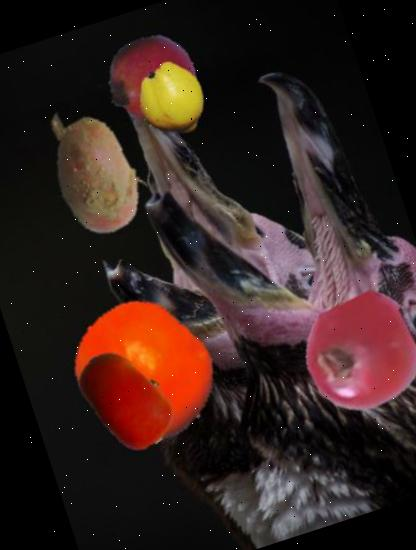Clementine: (54, 281, 235, 462)
Nectarine: (58, 330, 194, 466)
Pomegranate: (92, 19, 208, 135)
Potato: (5, 82, 178, 256)
Quince: (123, 52, 220, 148)
Redcurrant: (289, 280, 416, 426)
